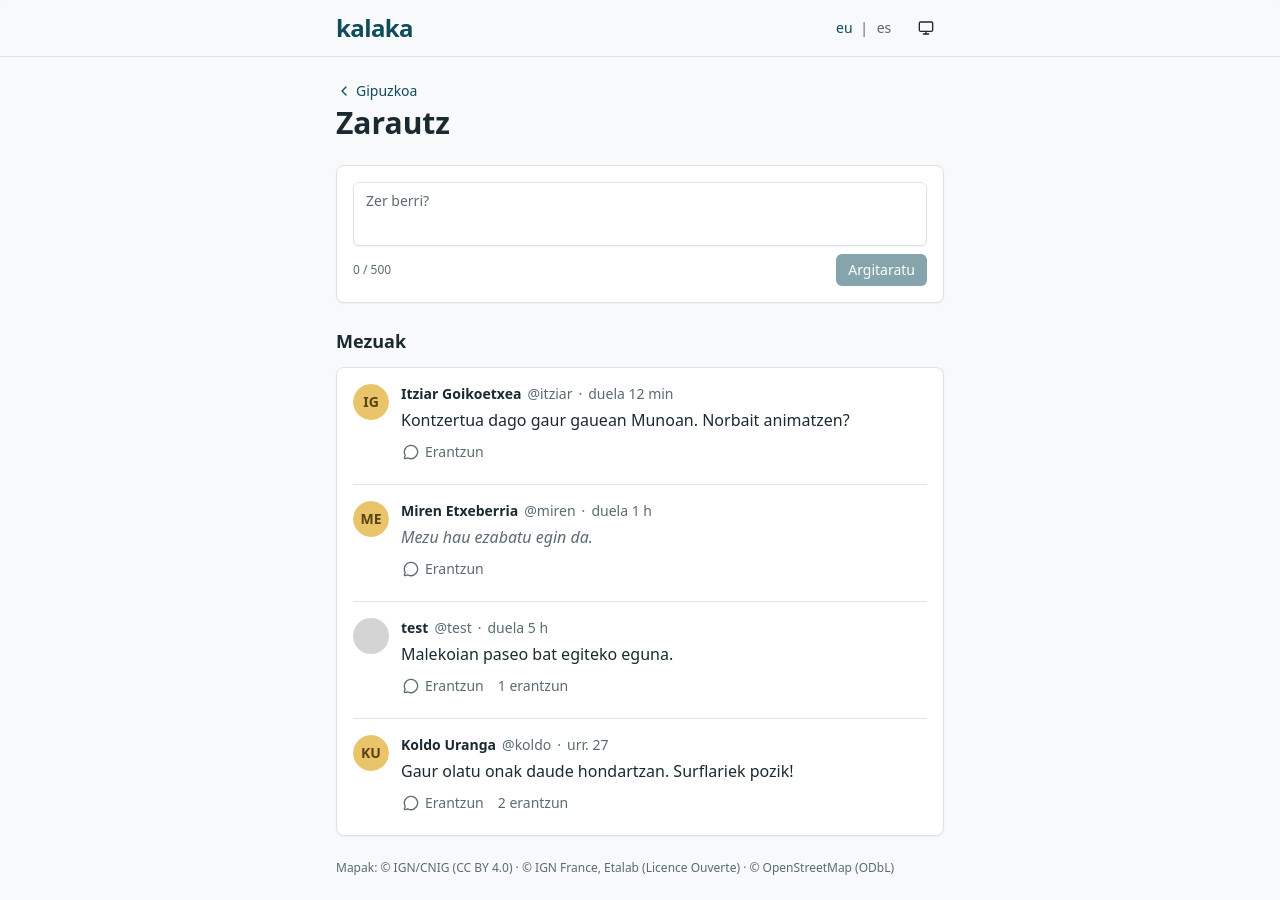
Test case: post page › counts the new reply when you go back to the room
Expected: the text "Gaur olatu onak daude hondartzan. Surflariek pozik!" shows "2 erantzun", [498,793,568,812]
Click the link "Erantzun" next to "2 erantzun". click: (443, 802)
box: [403,793,484,812]
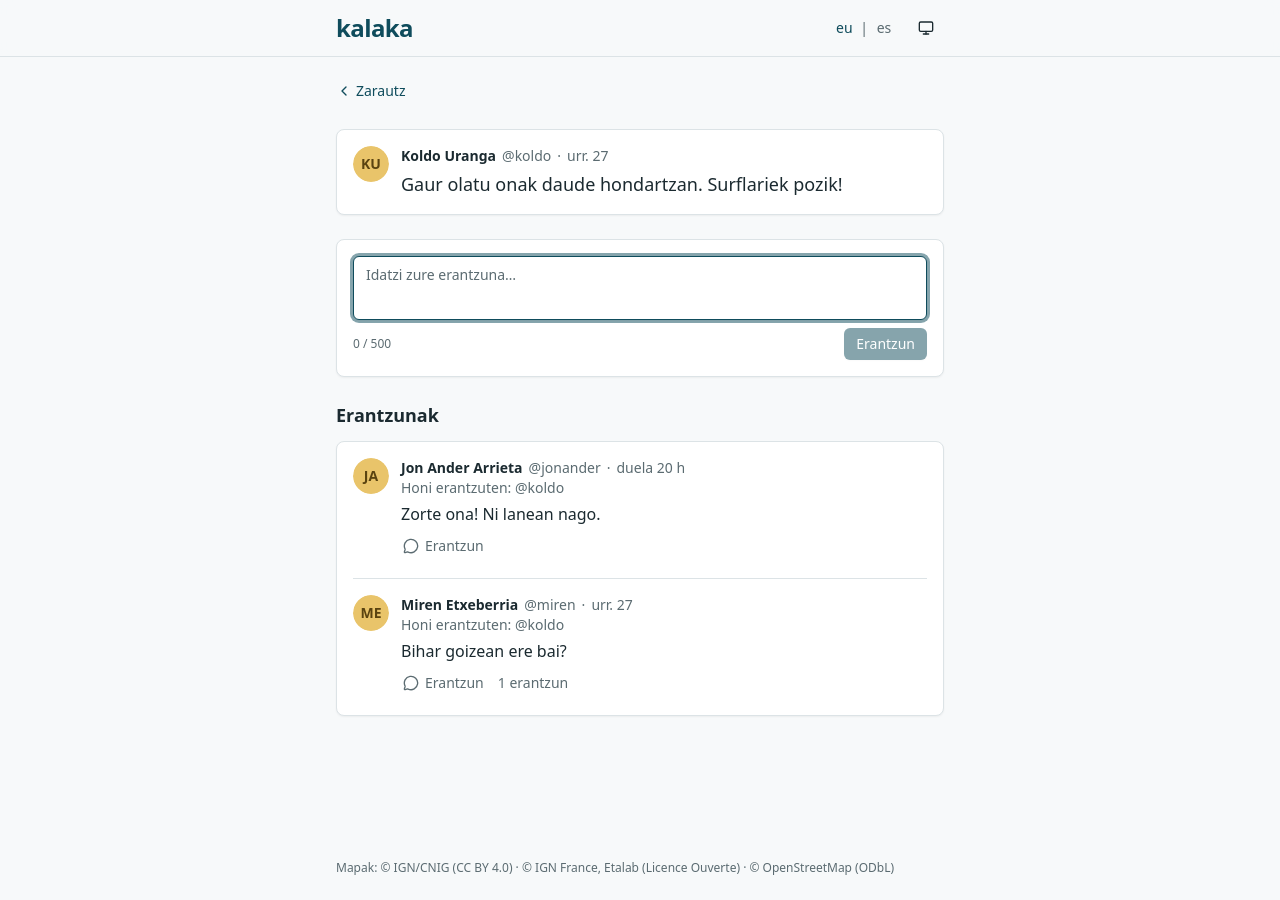
Type "Ni ere bai!" into the text box named "Idatzi erantzun bat". click: (640, 288)
box: [353,256,927,320]
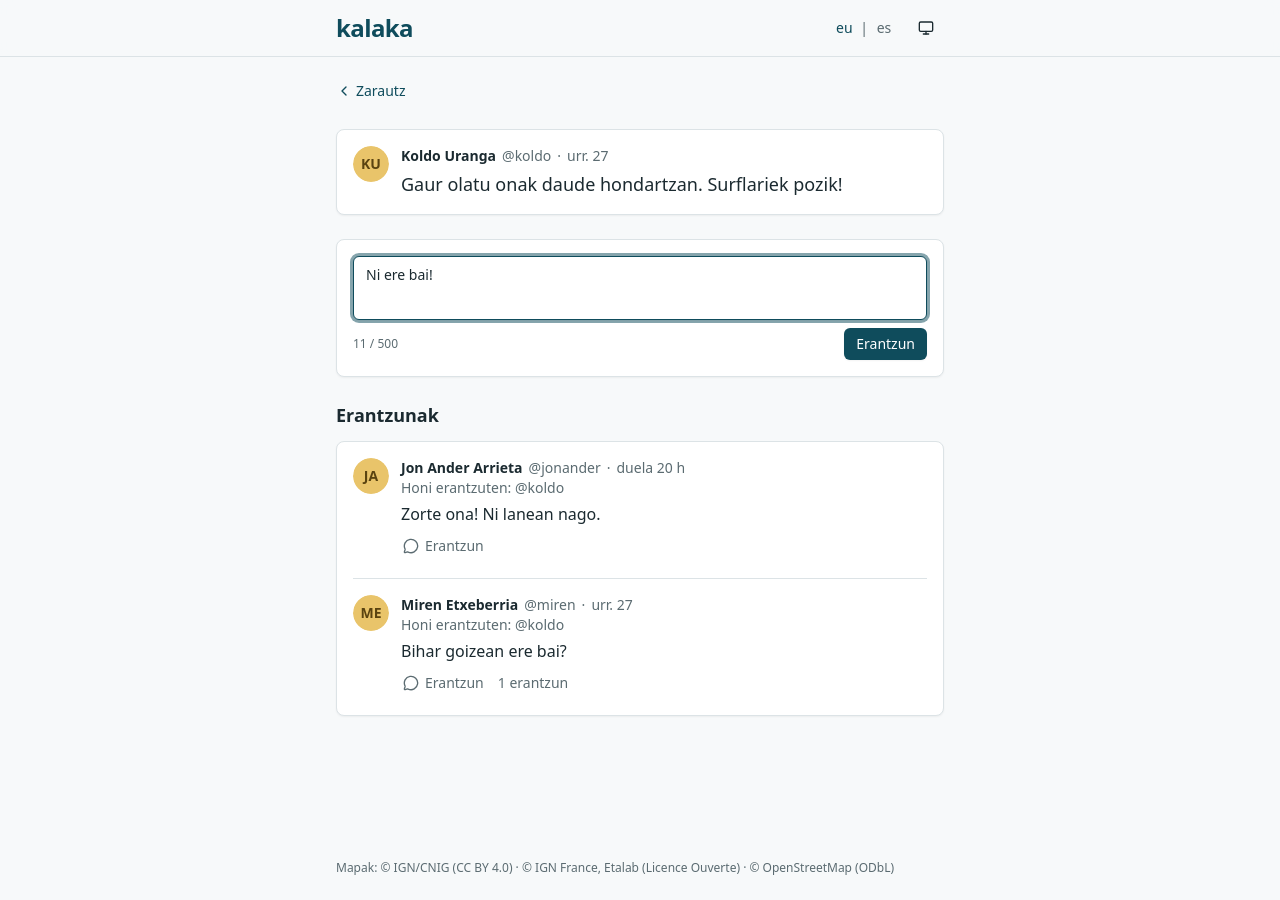
Click the button "Erantzun". click: (886, 344)
box: [844,328,927,360]
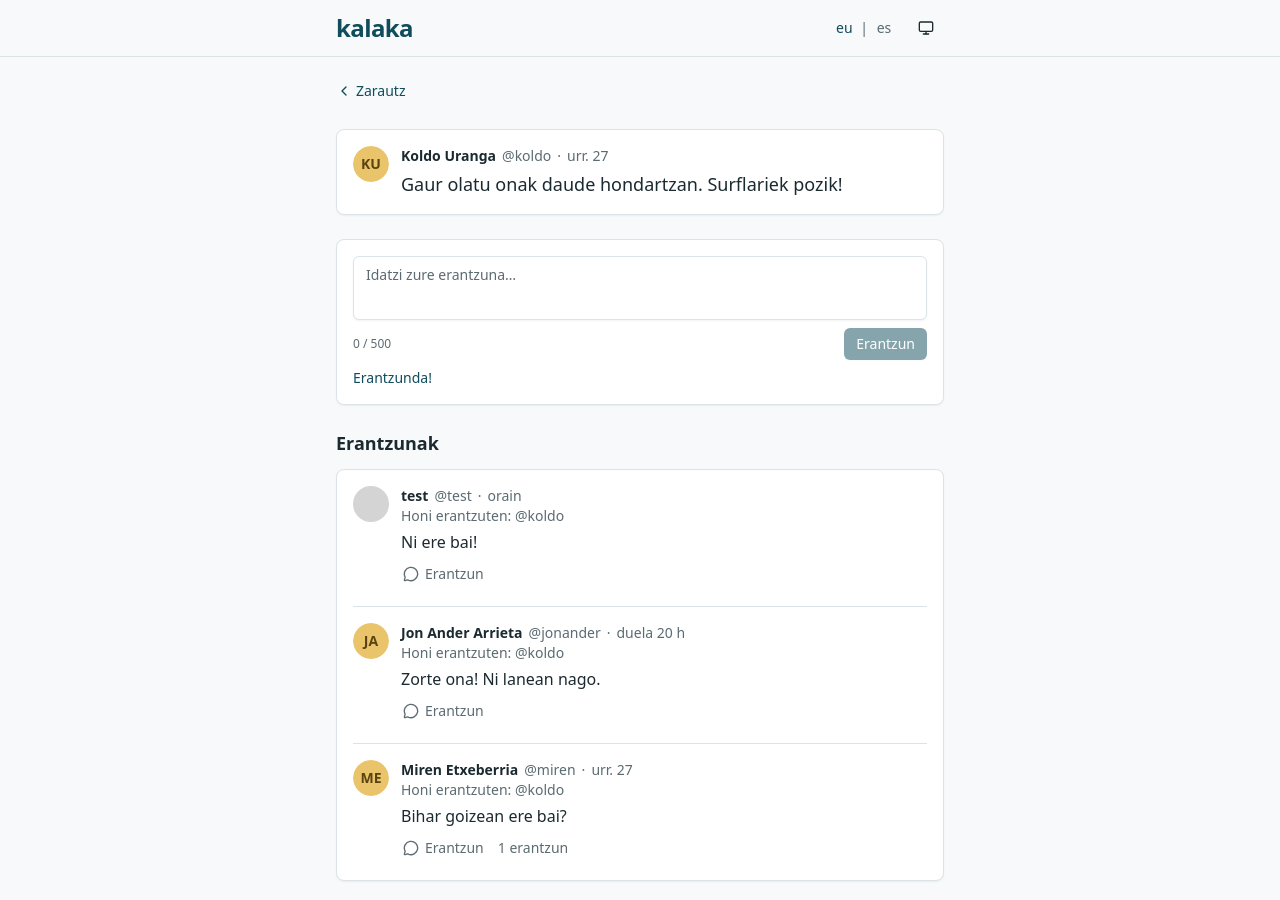
Expected: the text "Erantzunda!" is shown, [353,368,432,387]
Click the link "Zarautz". click: (371, 91)
box: [336,81,406,101]
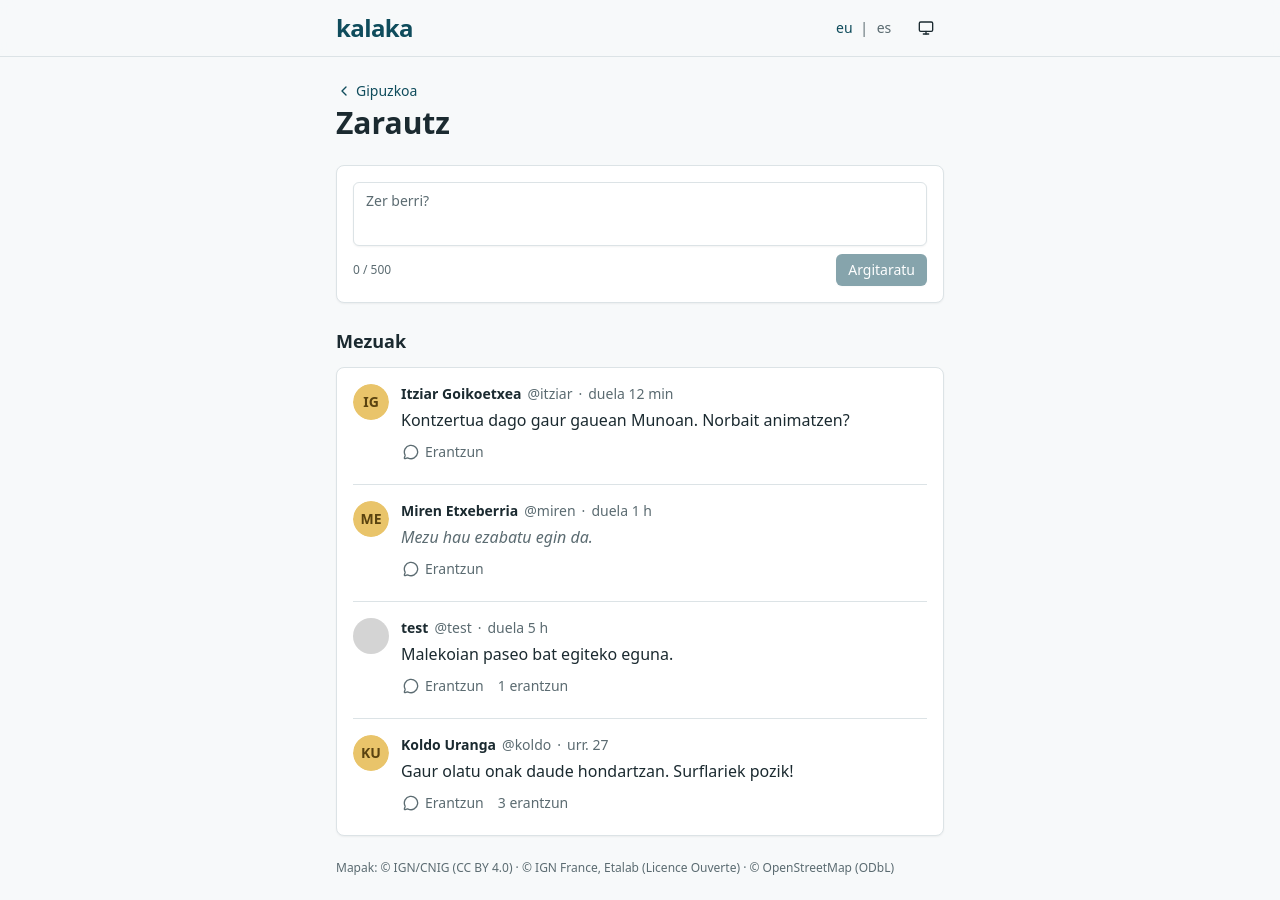
Expected: the text "Gaur olatu onak daude hondartzan. Surflariek pozik!" shows "3 erantzun", [498,793,568,812]
